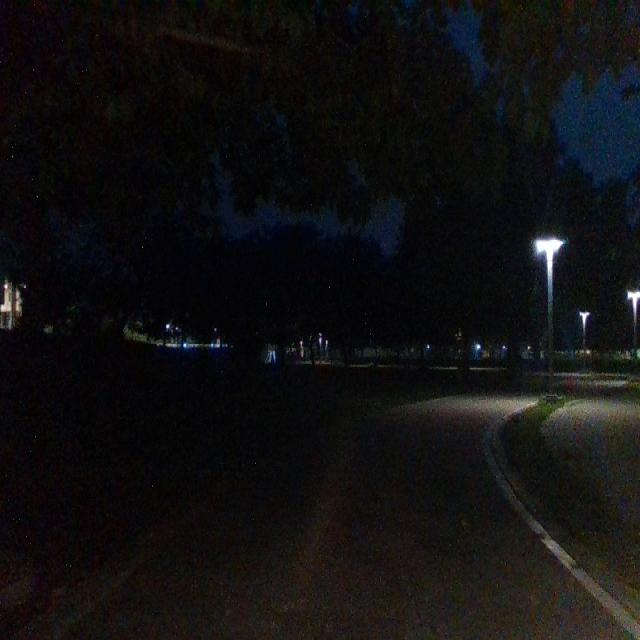lane: (64, 397, 639, 640)
